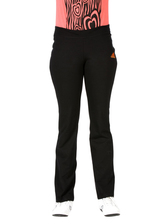clothoes: (48, 24, 118, 202)
shoes: (95, 201, 124, 217), (49, 199, 75, 216)
